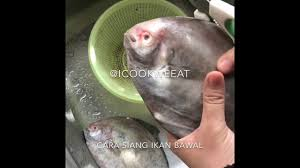Ikan Bawal: (116, 12, 243, 144), (81, 116, 170, 168)
